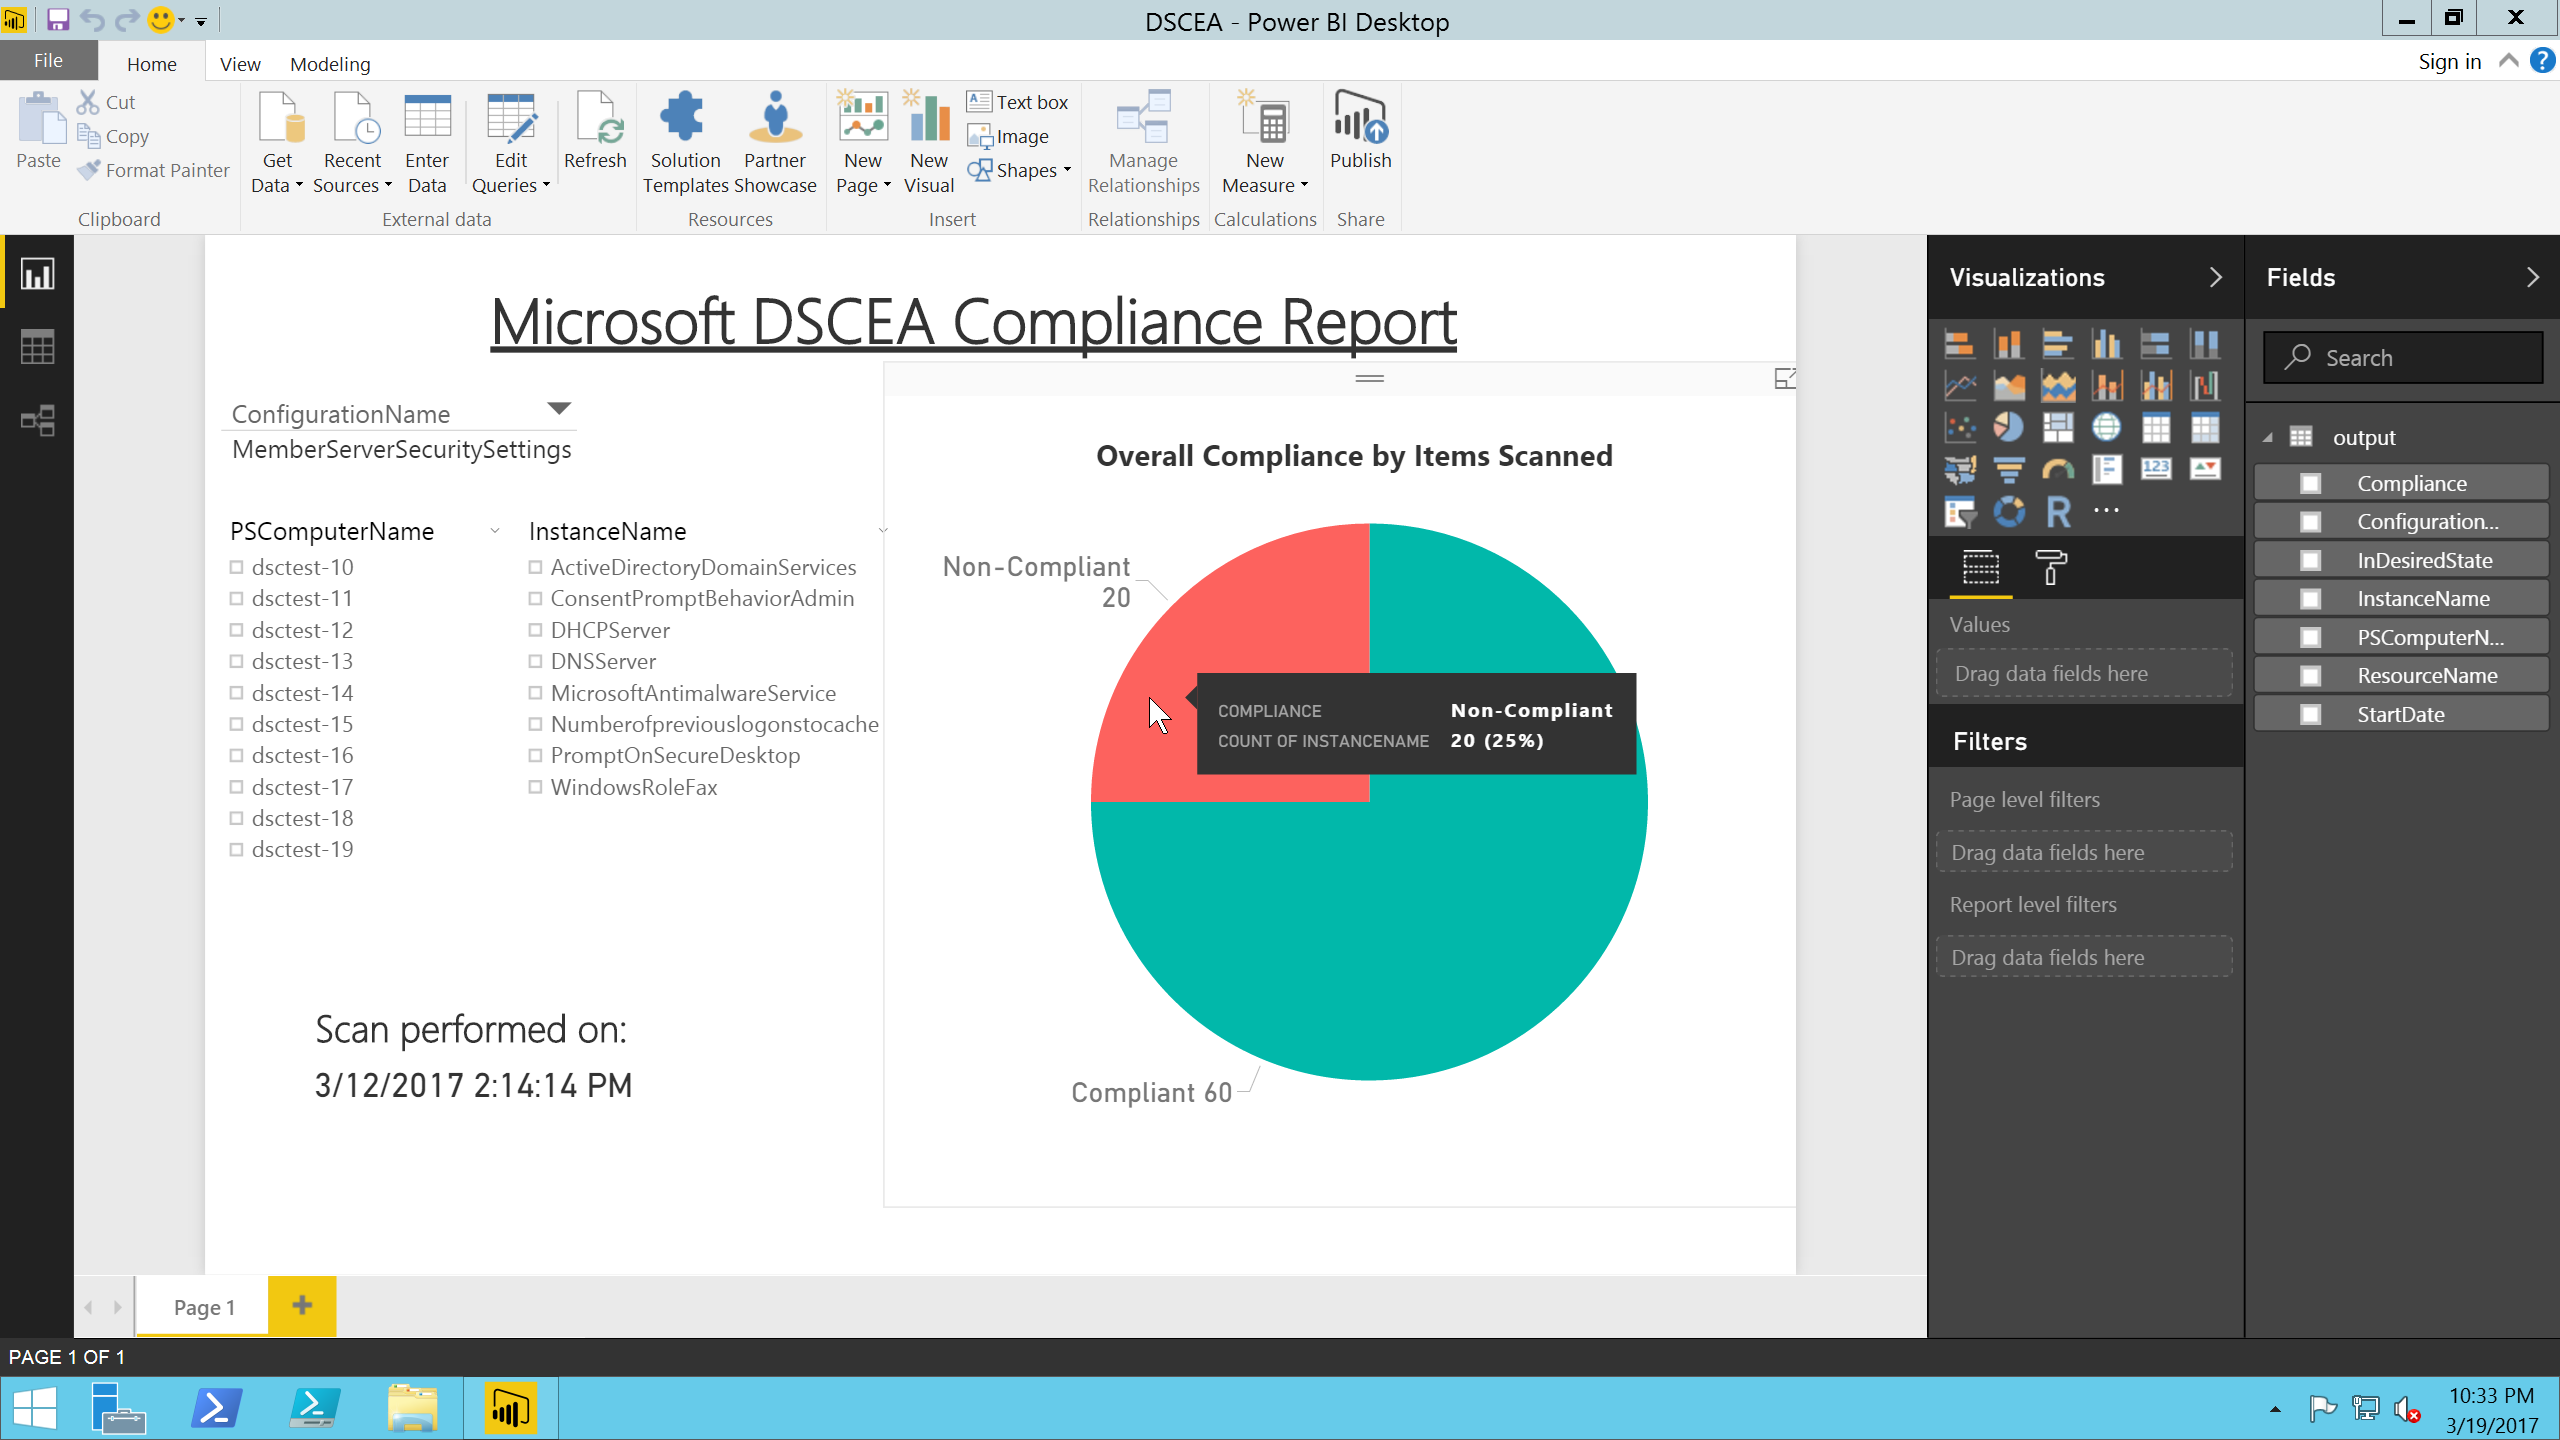

This screenshot's page, from the dashboard's own definition file:
{"tool":"powerbi","page":{"name":"Page 1","canvas":[1520,960],"ordinal":0},"visuals":[{"type":"textbox","box":[267.6,0,963.3,95.3],"z":1},{"type":"table","fields":{"Values":["output.ConfigurationName"]},"box":[10,115.4,352.9,85.3],"z":2},{"type":"slicer","fields":{"Values":["output.PSComputerName"]},"box":[10,227.5,284.3,351.2],"z":3},{"type":"slicer","fields":{"Values":["output.InstanceName"]},"box":[296,227.5,369.6,286],"z":4},{"type":"pieChart","fields":{"Category":["output.Compliance"],"Y":["CountNonNull(output.InstanceName)"]},"box":[647.2,120.4,929.9,776],"z":5},{"type":"card","fields":{"Values":["Min(output.StartDate)"]},"box":[66.9,750.9,379.7,50.2],"z":6},{"type":"textbox","box":[100.3,694.1,317.8,58.5],"z":7},{"type":"textbox","box":[846.3,152.2,525.2,46.8],"z":8}]}

Visuals, with their boxes on the page's 1520x960 design canvas (x1, y1, x2, y2). These are canvas units, not pixel positions in the 2560x1440 screenshot, which may show the page scaled, cropped or inside an application window:
textbox: 268 0 1231 95
table - output.ConfigurationName: 10 115 363 201
slicer - output.PSComputerName: 10 228 294 579
slicer - output.InstanceName: 296 228 666 514
pieChart - output.Compliance x CountNonNull(output.InstanceName): 647 120 1577 896
card - Min(output.StartDate): 67 751 447 801
textbox: 100 694 418 753
textbox: 846 152 1372 199
